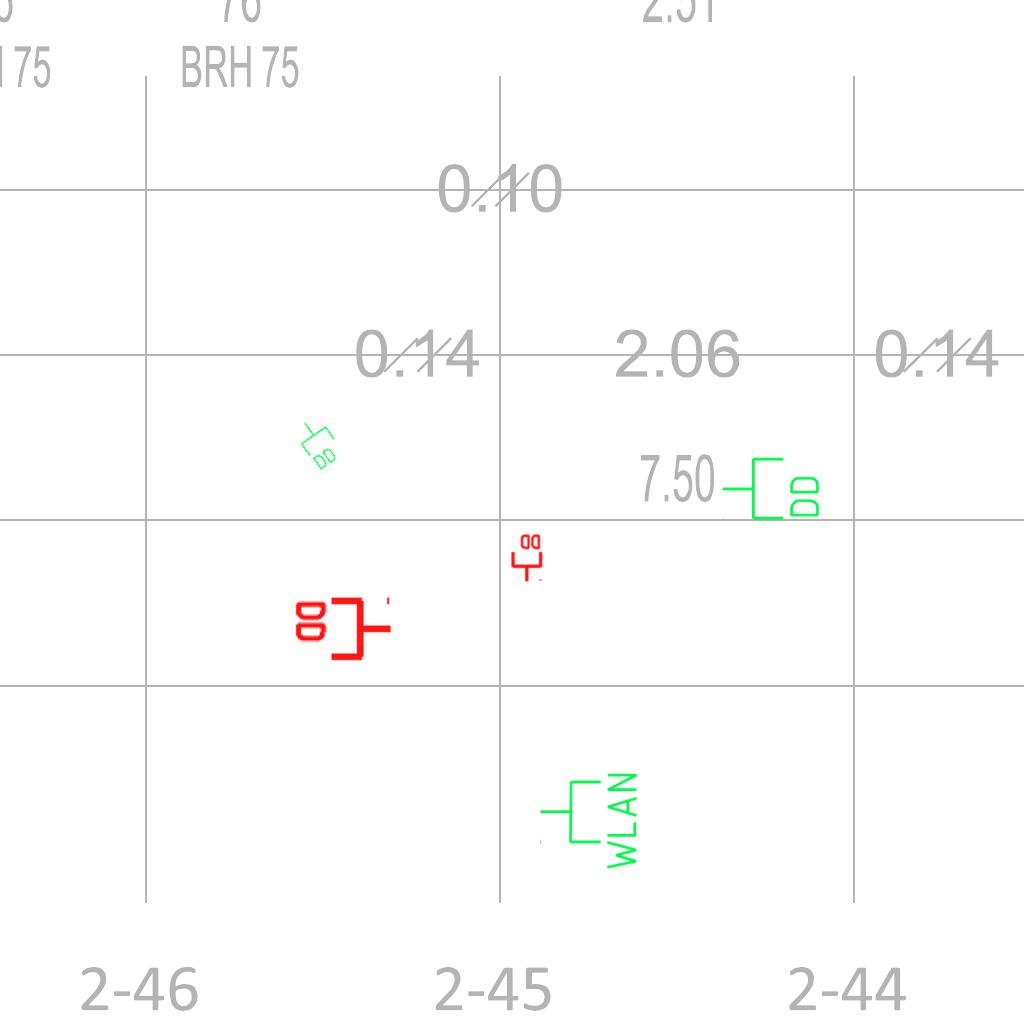Datenanschluss_zweifach: (720, 455, 823, 524), (291, 596, 394, 665), (289, 412, 348, 474), (509, 532, 543, 583)
WLAN: (537, 769, 641, 874)
